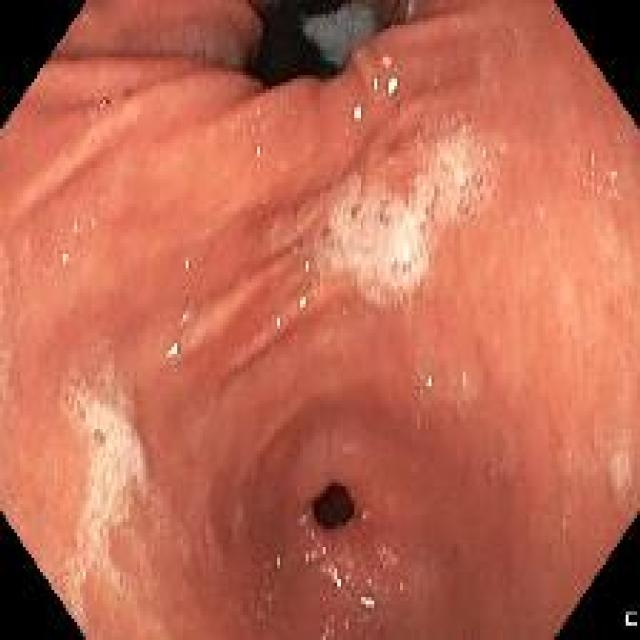bubbles: (72, 374, 142, 544), (320, 188, 423, 296), (416, 117, 490, 218), (604, 451, 628, 500), (93, 92, 116, 117)
contrast: (235, 7, 395, 86), (315, 480, 355, 540)
specularity: (322, 558, 344, 591), (161, 342, 183, 365), (385, 73, 404, 99), (349, 100, 367, 125), (251, 138, 267, 166), (357, 590, 377, 611), (177, 308, 196, 330), (268, 311, 288, 331), (369, 72, 385, 96), (57, 248, 75, 267), (422, 370, 436, 394), (272, 554, 285, 575), (360, 506, 371, 526), (300, 254, 310, 275), (302, 548, 317, 562), (91, 216, 101, 235), (298, 297, 309, 311), (73, 220, 84, 229)
